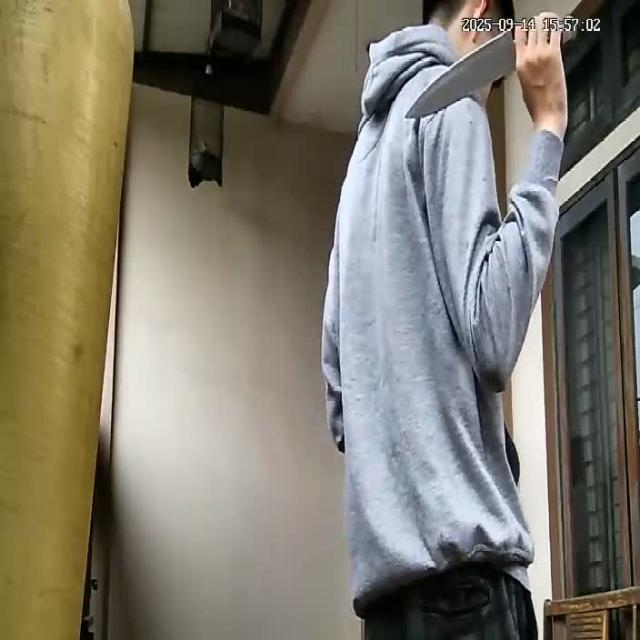senjata_tajam: (403, 27, 517, 124)
